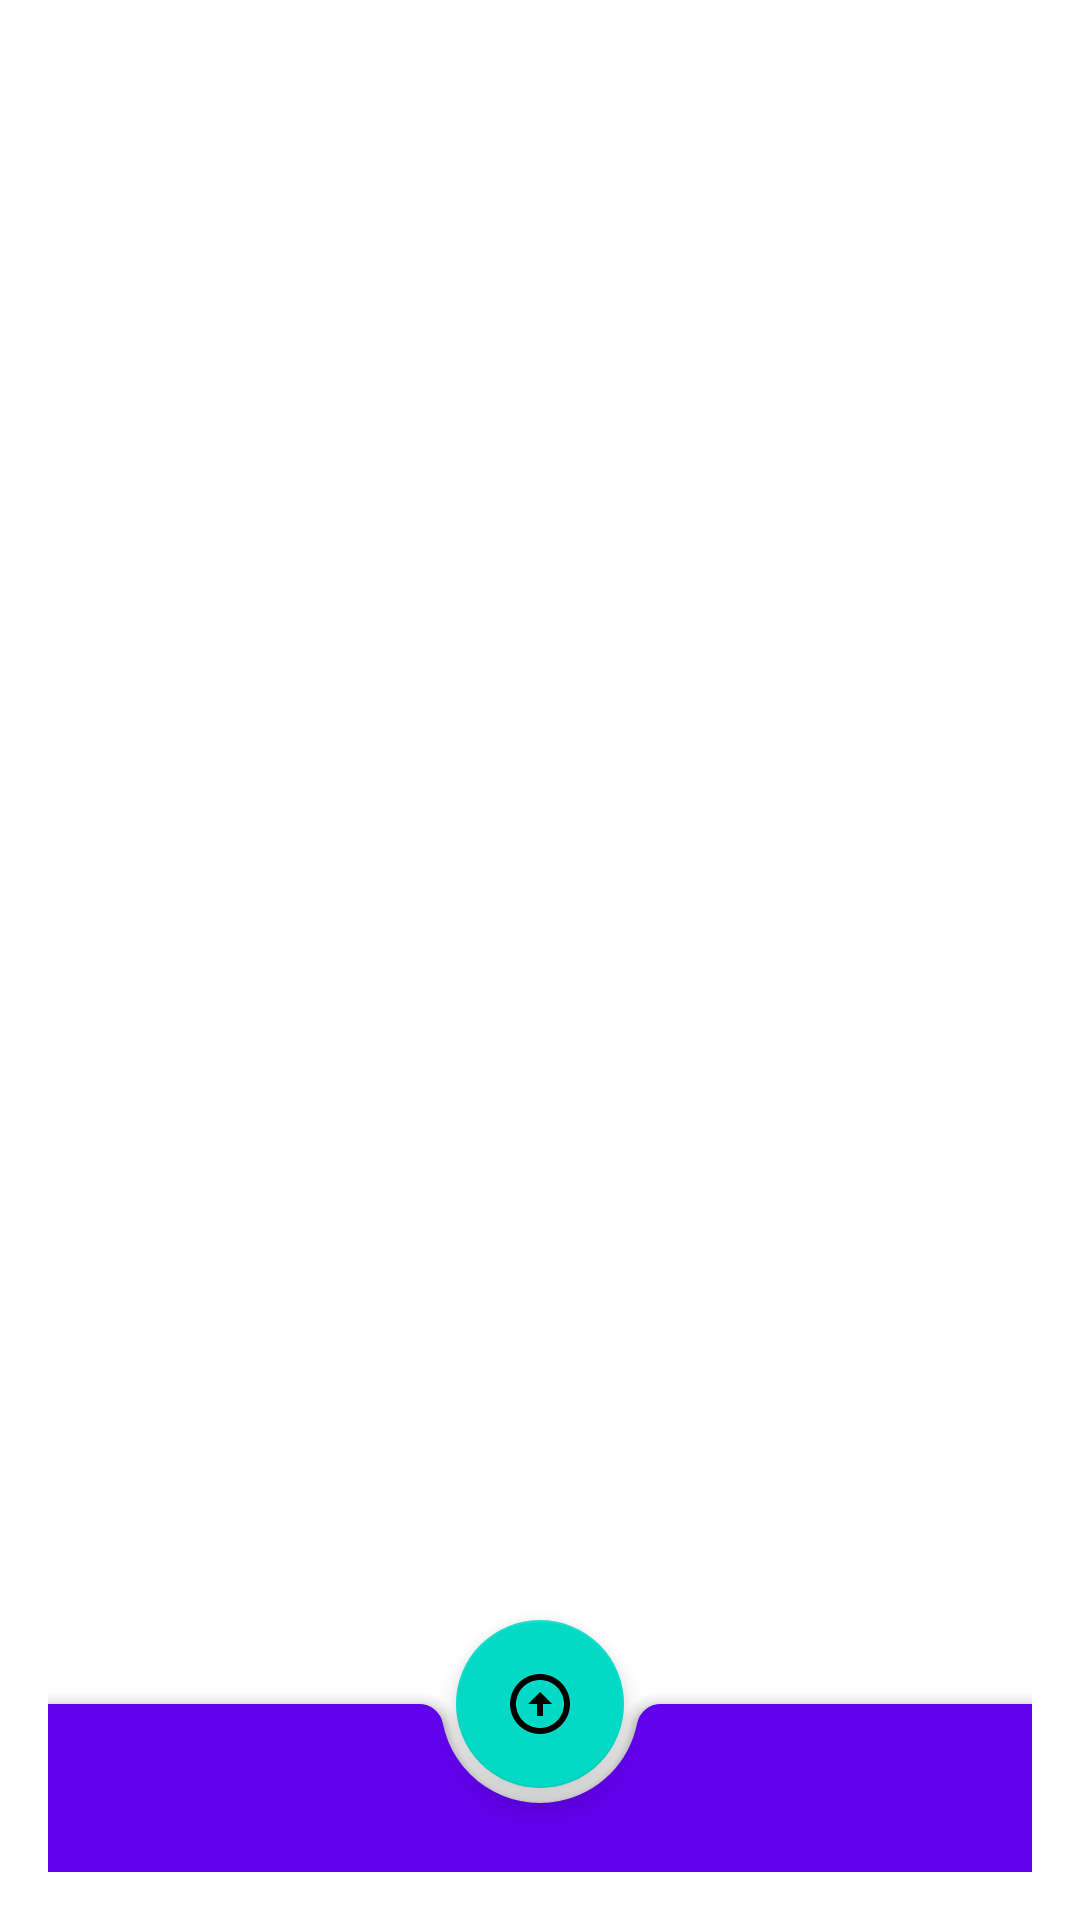

Icons on this 1080px x 1920px Android screen, each with the point to tap as [x,y]:
Описание Добавить Новый Пост: [540,1704]
